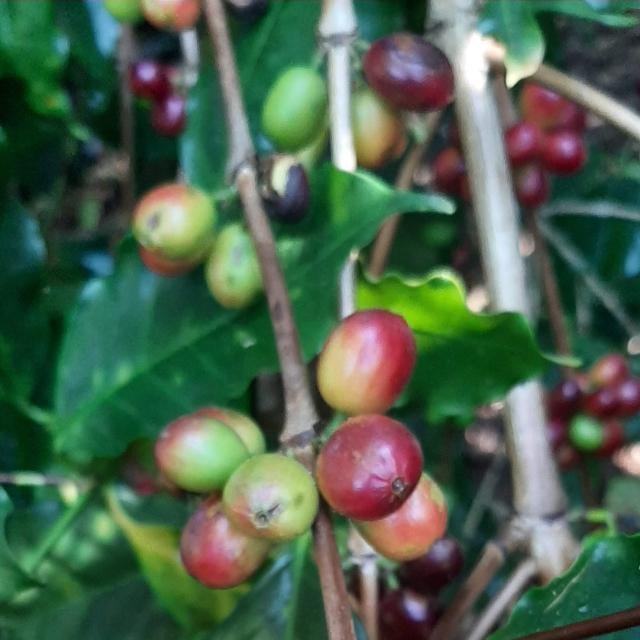green: (262, 66, 327, 151), (205, 224, 263, 309)
red: (316, 415, 423, 522), (317, 309, 416, 416), (363, 32, 455, 111), (263, 154, 310, 222)
yellow: (222, 455, 319, 543), (180, 497, 270, 590), (355, 474, 448, 562), (131, 183, 216, 276), (154, 415, 249, 493), (190, 408, 266, 456)
